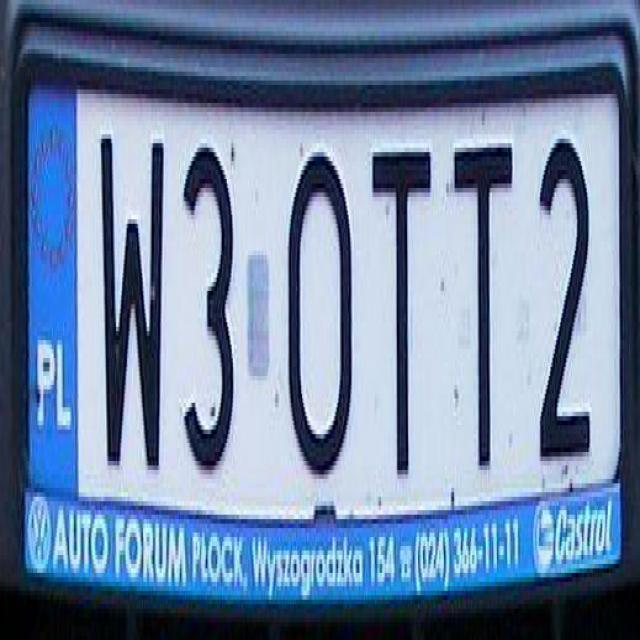License_Plate: (24, 82, 636, 607)
